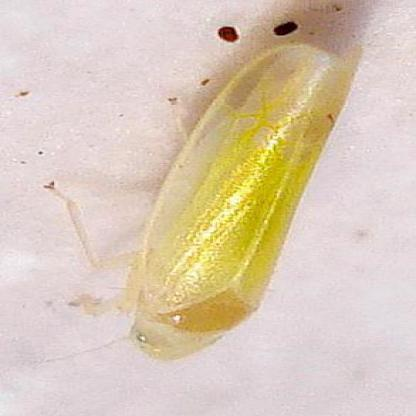green-leafhopper: (98, 46, 362, 363)
